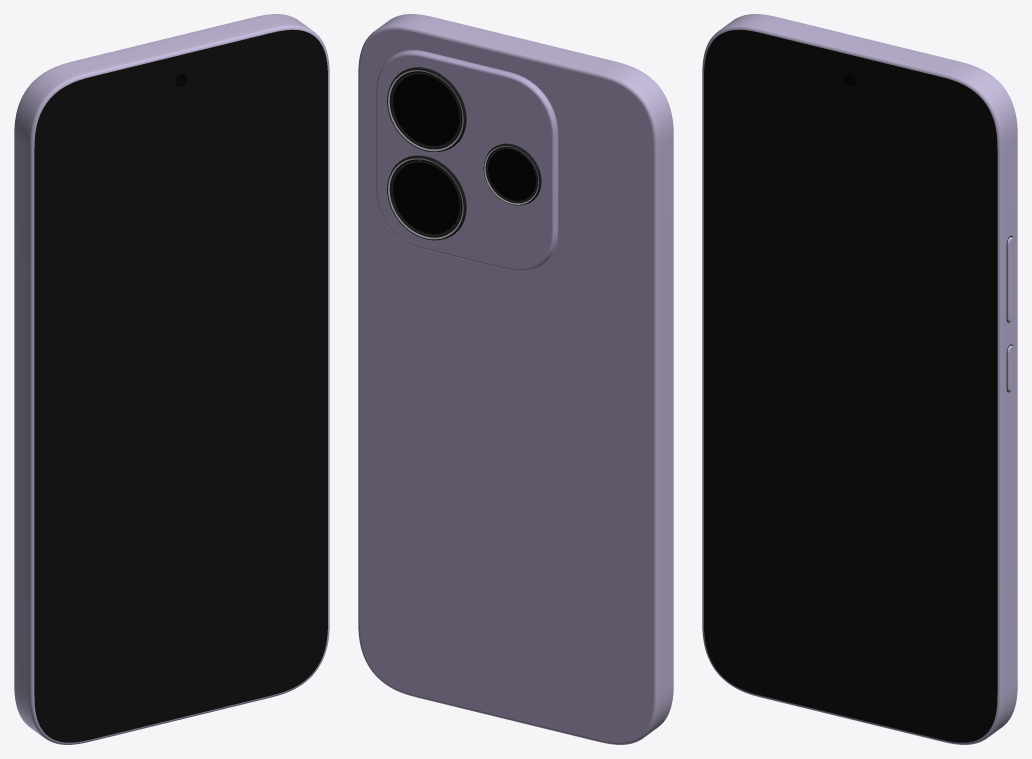
File: redmi-note-14.glb
3 renders of one model, left to right at view 1: azimuth 30°, elevation 25°; view 2: azimuth 150°, elevation 25°; view 3: azimuth 330°, elevation 25°, orthographic.
Visible parts, largest first — view 1: body; view 2: body, camera; view 3: body, buttons.
Part boxes in pixels (box(x1,y1,x2,y2)): body: box(14, 14, 329, 744); body: box(358, 14, 673, 744); camera: box(376, 50, 558, 271); body: box(702, 14, 1017, 744); buttons: box(1006, 235, 1013, 392).
Size of the model in its own units: 76.98 by 163 by 10.26.
